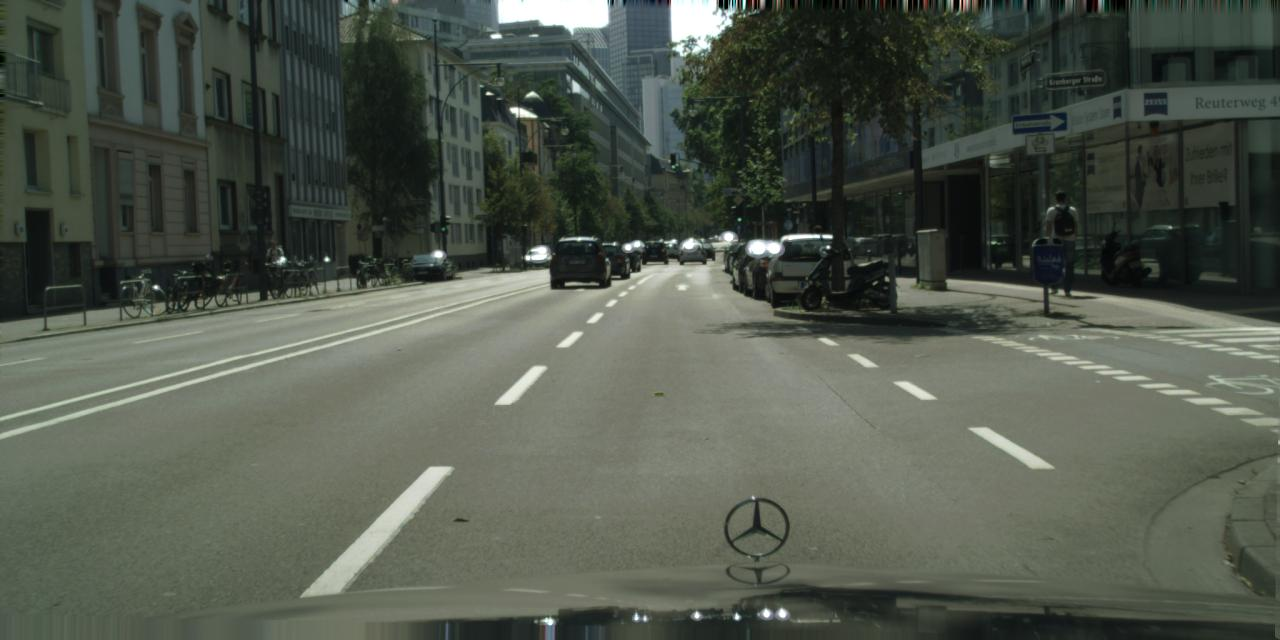ped: (1040, 190, 1082, 294), (263, 240, 284, 292), (387, 246, 398, 275)
